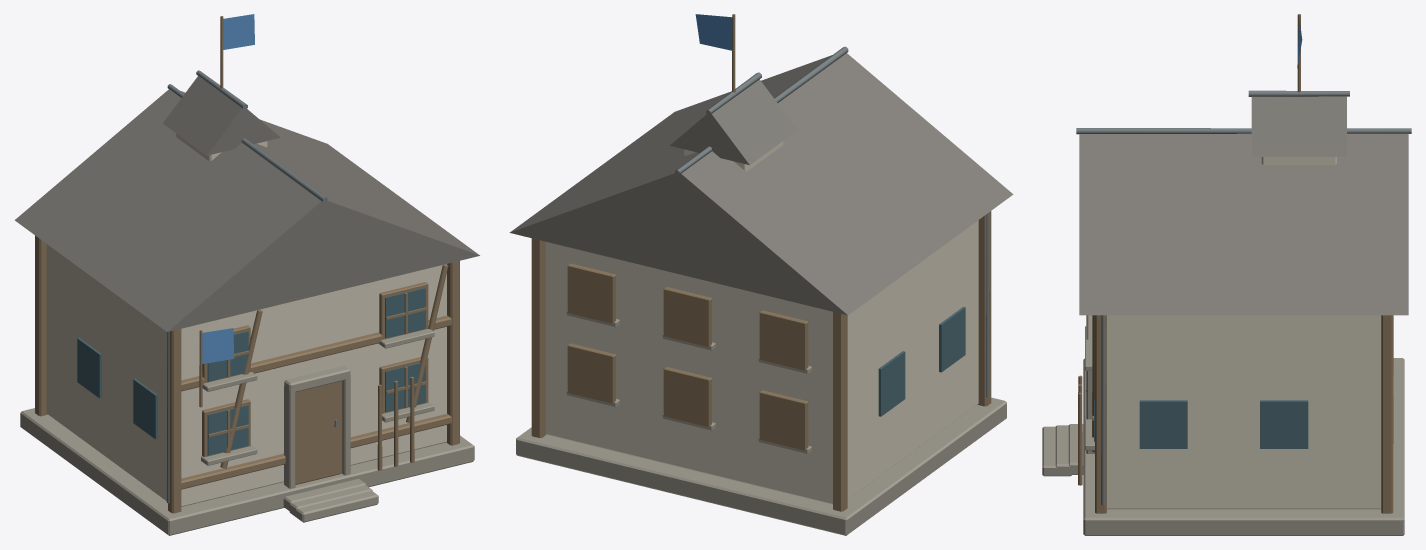
The model's file is bld_centre_a03.glb.
The picture shows the model from 3 angles, left to right: view 1: azimuth 30°, elevation 25°; view 2: azimuth 150°, elevation 25°; view 3: azimuth 270°, elevation 25°; orthographic projection. The views are drawn at different scales.
Parts seen in each view (by area): view 1: bld_centre_a03; view 2: bld_centre_a03; view 3: bld_centre_a03.
Part boxes in pixels (left/top/right/bottom): bld_centre_a03: left=14, top=14, right=479, bottom=535; bld_centre_a03: left=509, top=14, right=1013, bottom=535; bld_centre_a03: left=1042, top=14, right=1411, bottom=535.
Bounding box in the file's own units: 3.88 × 4.86 × 3.68.
